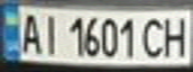0: (100, 15, 121, 58)
1: (118, 15, 142, 58), (63, 12, 84, 56)
6: (81, 14, 103, 57)
A: (15, 10, 45, 55)
C: (139, 15, 169, 60)
H: (160, 12, 193, 59)
I: (39, 11, 63, 55)
